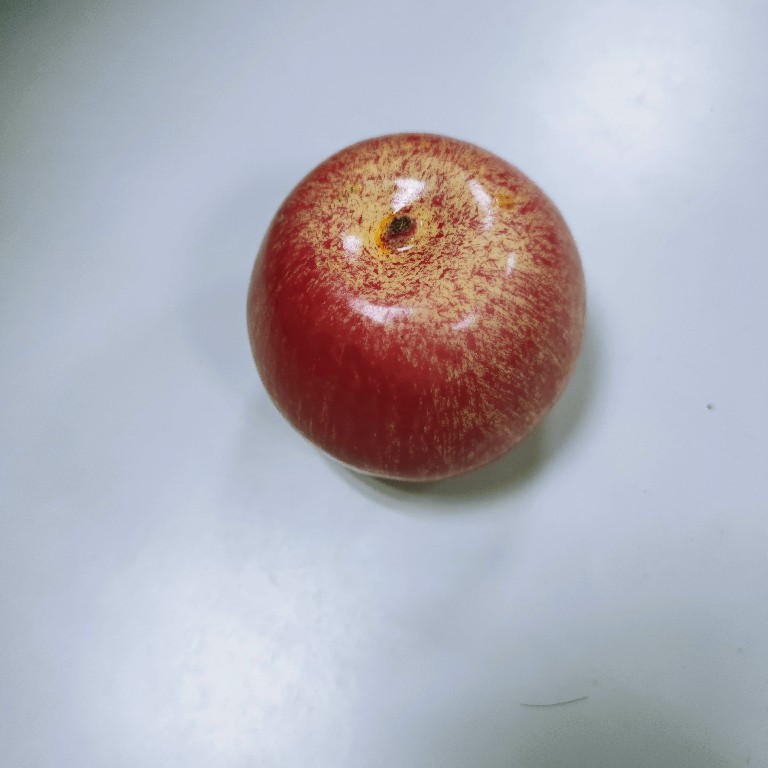fruit_apple: (240, 129, 594, 493)
